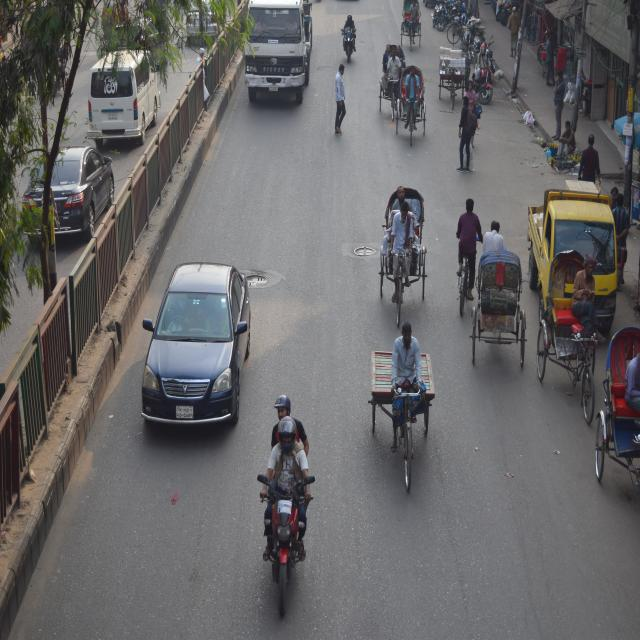car: (138, 253, 258, 440), (16, 134, 118, 251)
microbus: (90, 45, 167, 136)
motorbike: (246, 430, 310, 627), (477, 53, 503, 101), (338, 19, 356, 62)
pickup-van: (522, 176, 618, 338)
truck: (244, 0, 318, 108)
